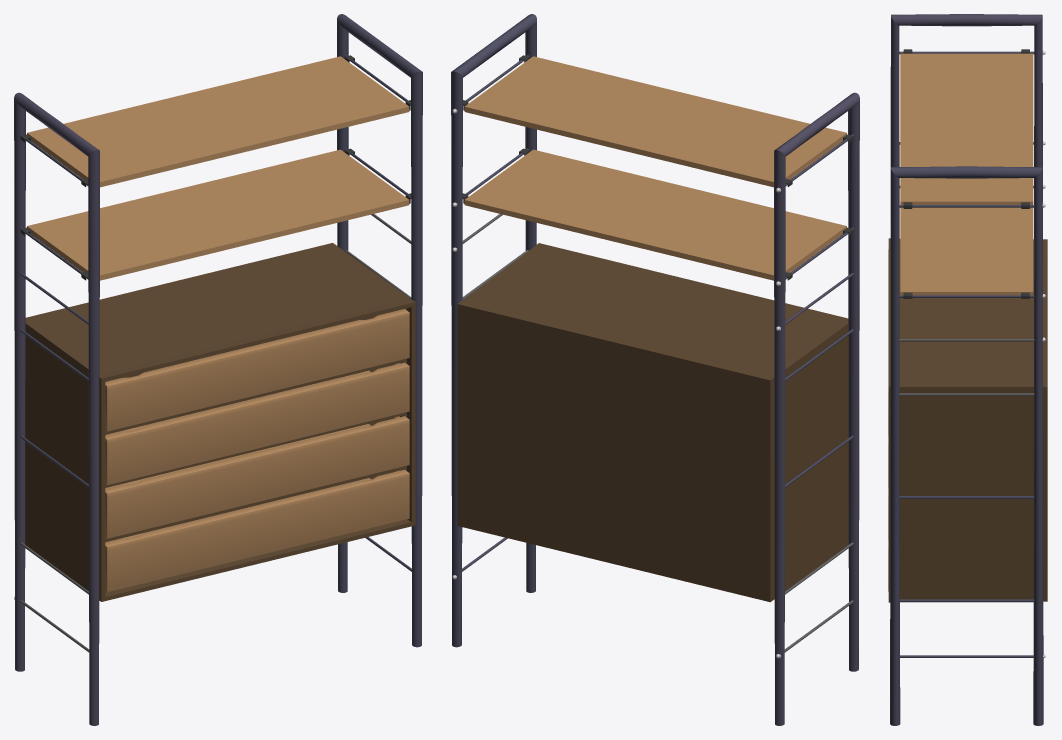
The model's file is parts.gltf.
3 views of the same model, side by side, from view 1: azimuth 30°, elevation 25°; view 2: azimuth 150°, elevation 25°; view 3: azimuth 270°, elevation 25° (orthographic). The views are drawn at different scales.
Parts seen in each view (by area): view 1: drawer_cabinet, drawer_cabinet_drawer_03, drawer_cabinet_drawer_02, drawer_cabinet_drawer_04, drawer_cabinet_drawer_01; view 2: drawer_cabinet; view 3: drawer_cabinet.
Boxes of the visible parts, box(x1,y1,x2,y2) form: drawer_cabinet: box(14, 14, 422, 725); drawer_cabinet_drawer_03: box(105, 416, 409, 538); drawer_cabinet_drawer_02: box(105, 362, 409, 485); drawer_cabinet_drawer_04: box(105, 469, 409, 592); drawer_cabinet_drawer_01: box(105, 309, 409, 431); drawer_cabinet: box(451, 14, 859, 725); drawer_cabinet: box(888, 14, 1047, 725).
Bounding box in the file's own units: 1.14 × 1.88 × 0.4881.
